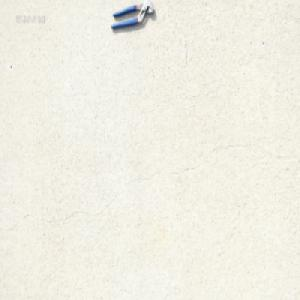Pliers: (110, 0, 154, 30)
